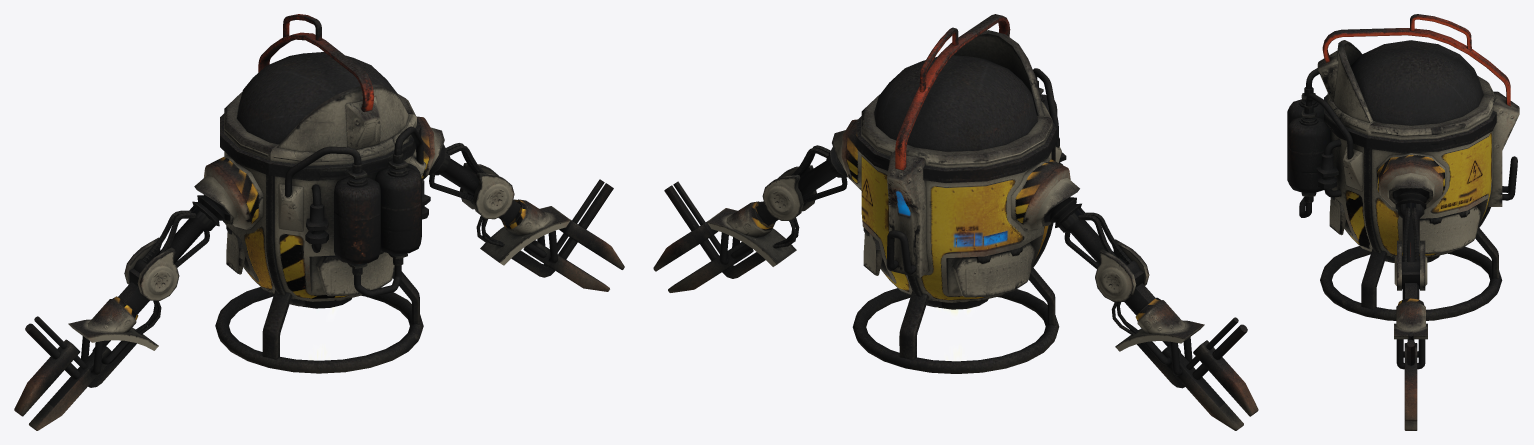
The picture shows the model from 3 angles, left to right: view 1: azimuth 30°, elevation 25°; view 2: azimuth 150°, elevation 25°; view 3: azimuth 270°, elevation 25°; orthographic projection. The views are drawn at different scales.
Parts seen in each view (by area): view 1: droid; view 2: droid; view 3: droid.
Part boxes in pixels (left/top/right/bottom): droid: left=14, top=14, right=624, bottom=430; droid: left=653, top=14, right=1258, bottom=430; droid: left=1287, top=14, right=1519, bottom=430.
Bounding box in the file's own units: 358 × 202 × 136.
2 materials, 2 textured.
